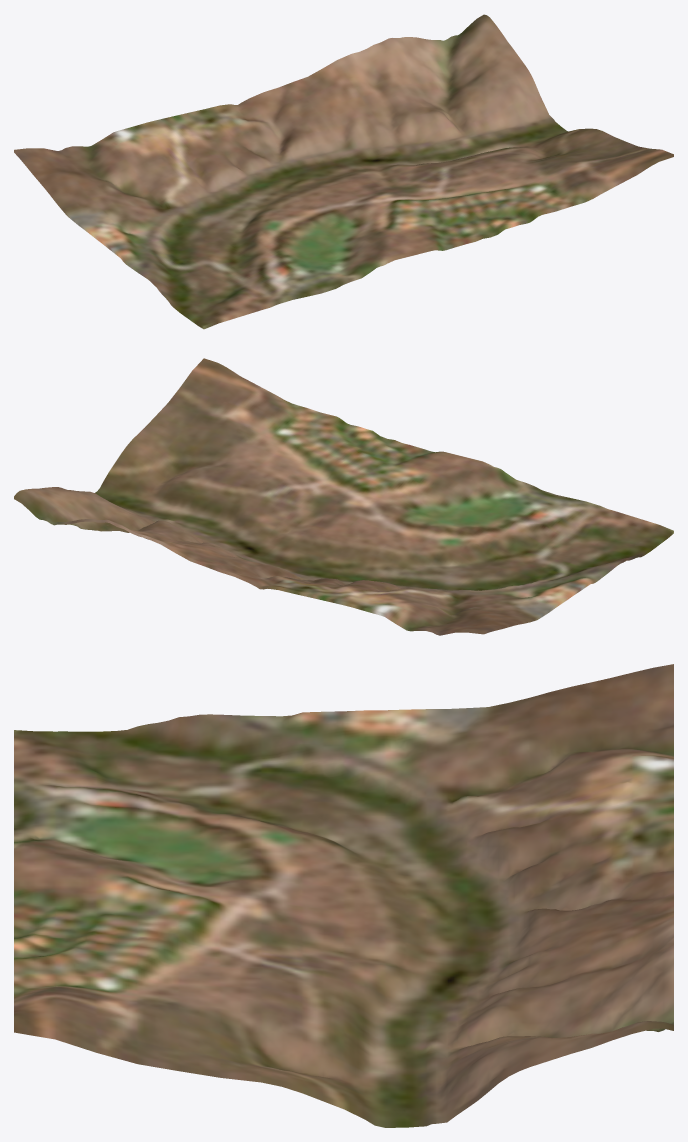
Rendered from terrain_r0_c1_lod1.glb.
3 views of the same model, one above another, from view 1: azimuth 30°, elevation 25°; view 2: azimuth 150°, elevation 25°; view 3: azimuth 270°, elevation 25° (orthographic). The views are drawn at different scales.
Parts seen in each view (by area): view 1: terrain_r0_c1_lod1; view 2: terrain_r0_c1_lod1; view 3: terrain_r0_c1_lod1.
Part boxes in pixels (x1=…): terrain_r0_c1_lod1: x1=14, y1=14, x2=673, y2=329; terrain_r0_c1_lod1: x1=14, y1=358, x2=673, y2=635; terrain_r0_c1_lod1: x1=14, y1=664, x2=673, y2=1127.
Bounding box in the file's own units: 1125 × 146 × 787.
1 material, 1 textured.
